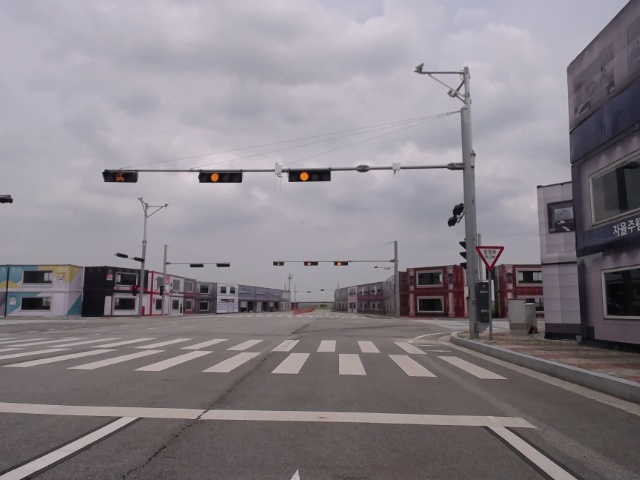orange_4: (198, 169, 244, 185), (287, 168, 333, 183), (333, 260, 349, 267), (302, 261, 320, 266)
